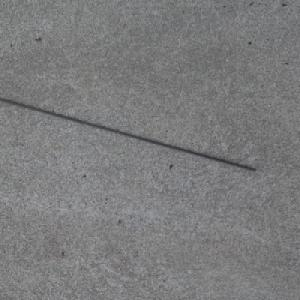LuggagePart: (0, 97, 257, 171)
